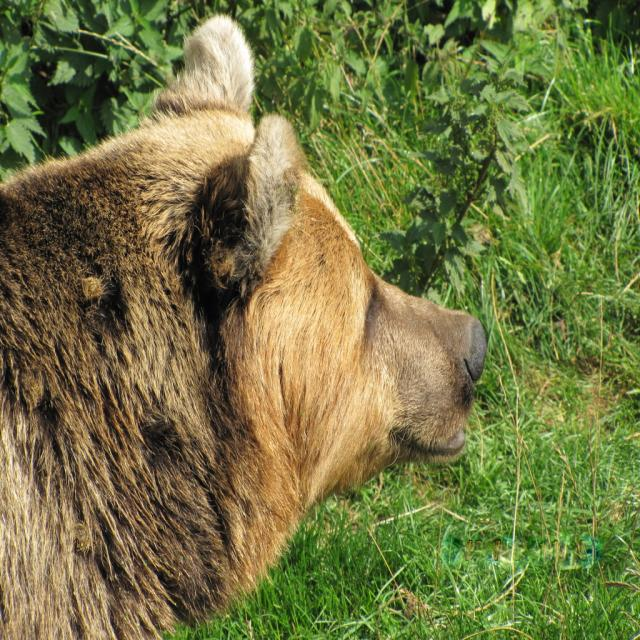Cheetahs: (0, 10, 487, 640)
